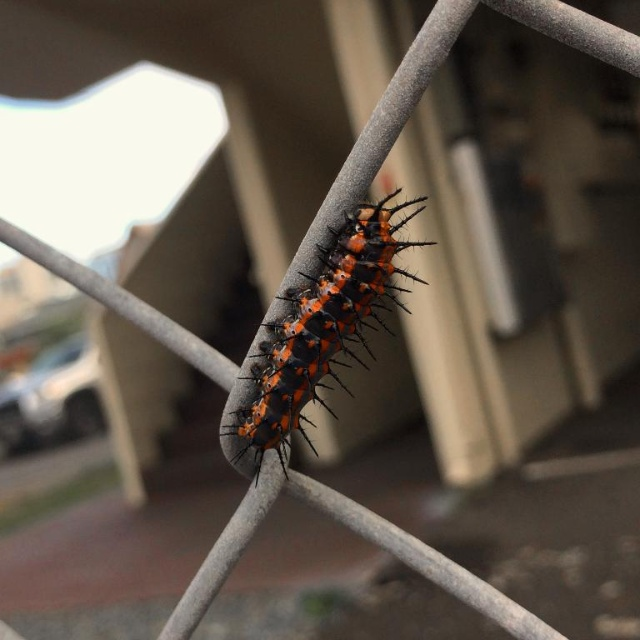Caterpillar: (220, 184, 438, 488)
